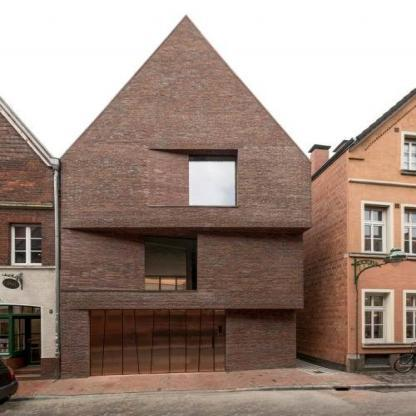Building Outline: (59, 15, 313, 379)
Facade: (58, 15, 314, 379)
Floor Slab: (61, 218, 313, 227), (60, 300, 304, 309)
Glass Wall: (90, 309, 226, 376), (146, 237, 197, 290), (189, 155, 235, 206)
Roof: (59, 15, 313, 164)
Window: (62, 227, 197, 291), (148, 149, 237, 206)
